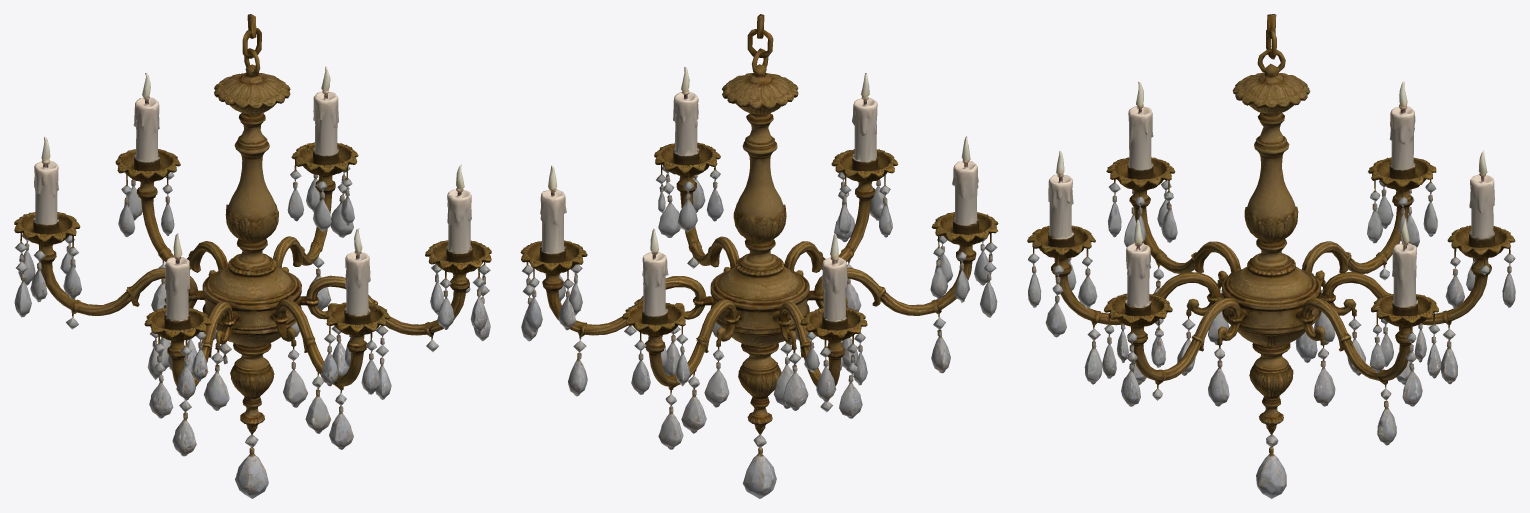
Rendered from chandelier.glb.
The picture shows the model from 3 angles, left to right: view 1: azimuth 30°, elevation 25°; view 2: azimuth 150°, elevation 25°; view 3: azimuth 270°, elevation 25°; orthographic projection.
Parts seen in each view (by area): view 1: tripo_node_37a60e1c-0489-4cc1-b439-80af822ca6ac; view 2: tripo_node_37a60e1c-0489-4cc1-b439-80af822ca6ac; view 3: tripo_node_37a60e1c-0489-4cc1-b439-80af822ca6ac.
Part boxes in pixels (x1,y1,x2,y2): tripo_node_37a60e1c-0489-4cc1-b439-80af822ca6ac: [14, 14, 491, 498]; tripo_node_37a60e1c-0489-4cc1-b439-80af822ca6ac: [520, 14, 998, 498]; tripo_node_37a60e1c-0489-4cc1-b439-80af822ca6ac: [1027, 14, 1515, 498].
Bounding box in the file's own units: 0.7148 × 0.9781 × 0.8959.
Materials: 1 (1 with a texture image).
